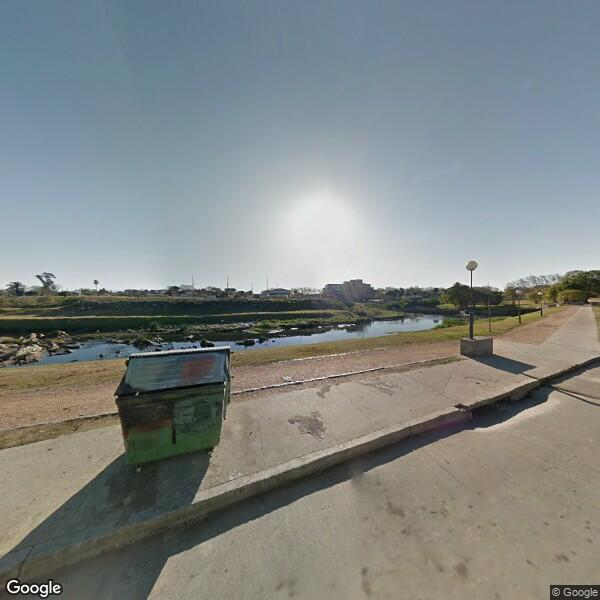Trash: (116, 352, 231, 458)
